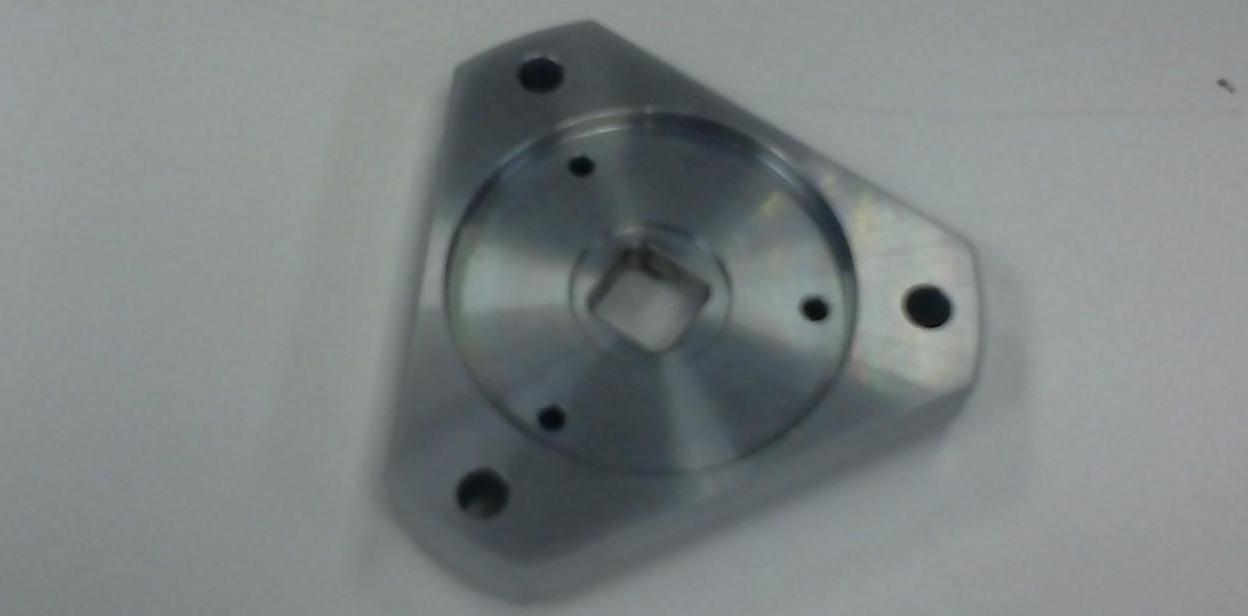hole: (451, 464, 521, 522), (899, 279, 958, 331), (511, 55, 571, 97), (535, 394, 571, 435), (798, 291, 833, 326), (566, 153, 600, 184)
